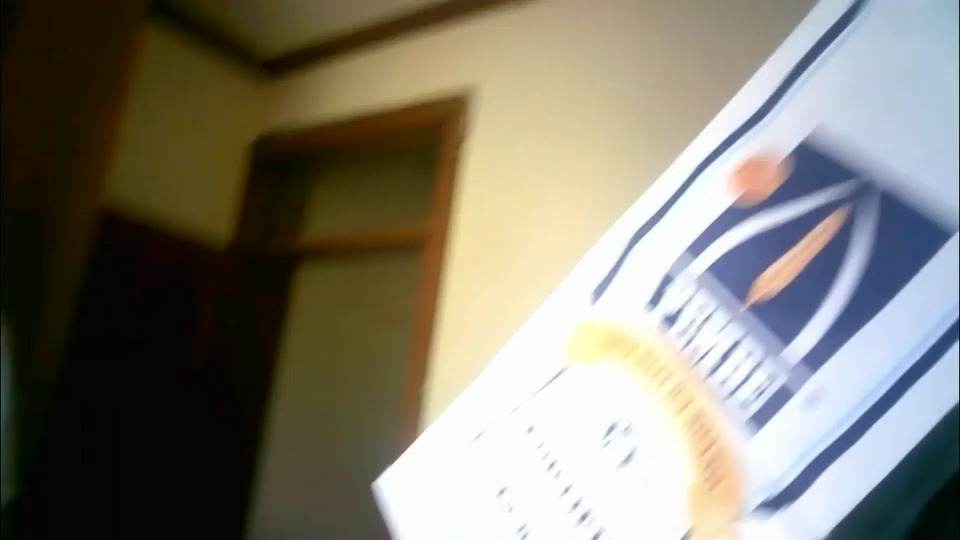wheat_flour_blue_label: (377, 0, 960, 540)
